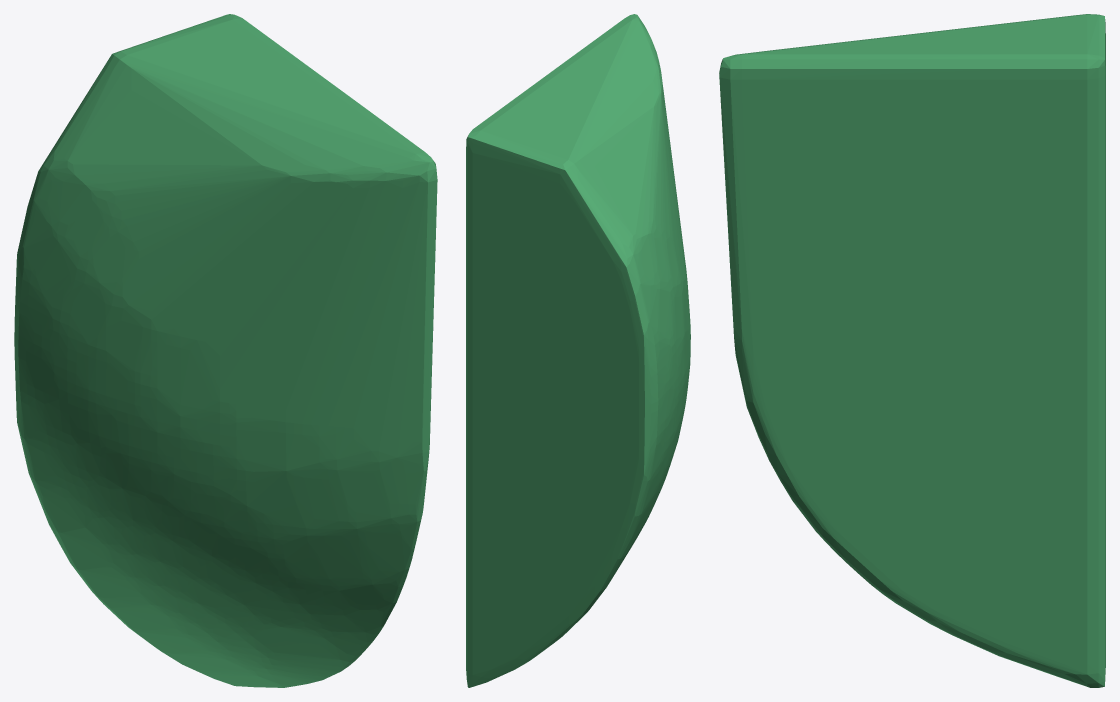
Rendered from right_th_distal_pst_part_3.obj.
The picture shows the model from 3 angles, left to right: view 1: azimuth 30°, elevation 25°; view 2: azimuth 150°, elevation 25°; view 3: azimuth 270°, elevation 25°; orthographic projection. The views are drawn at different scales.
Bounding box in the file's own units: 4.33 × 12.08 × 6.72.
